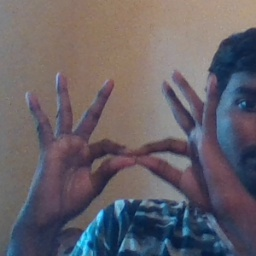B: (62, 108, 212, 206)
